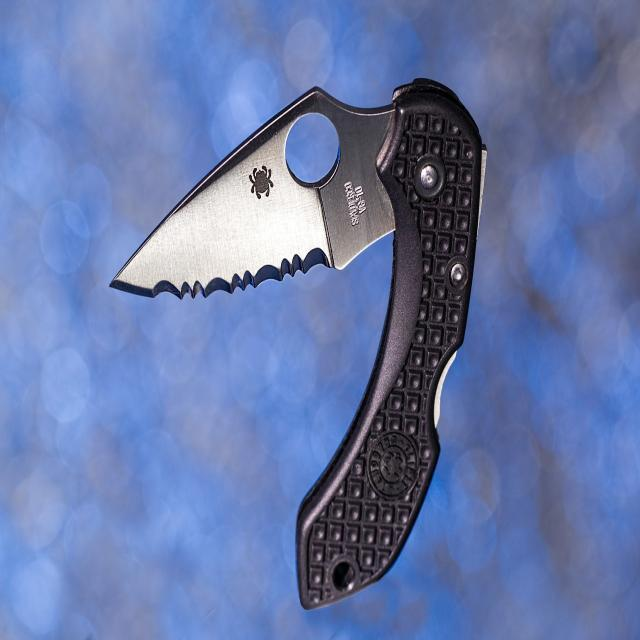Knife: (111, 79, 486, 608)
